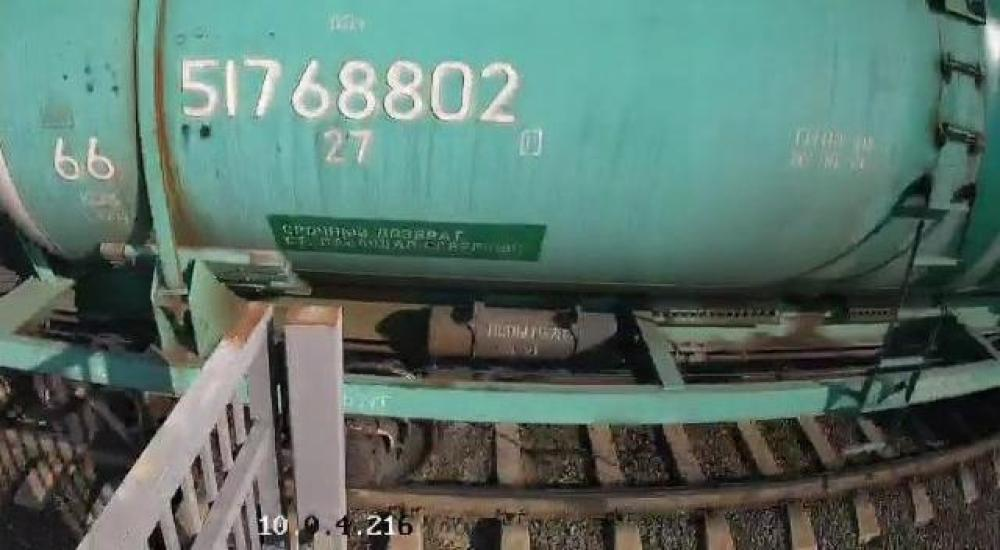Wagon-number: (173, 50, 522, 130)
